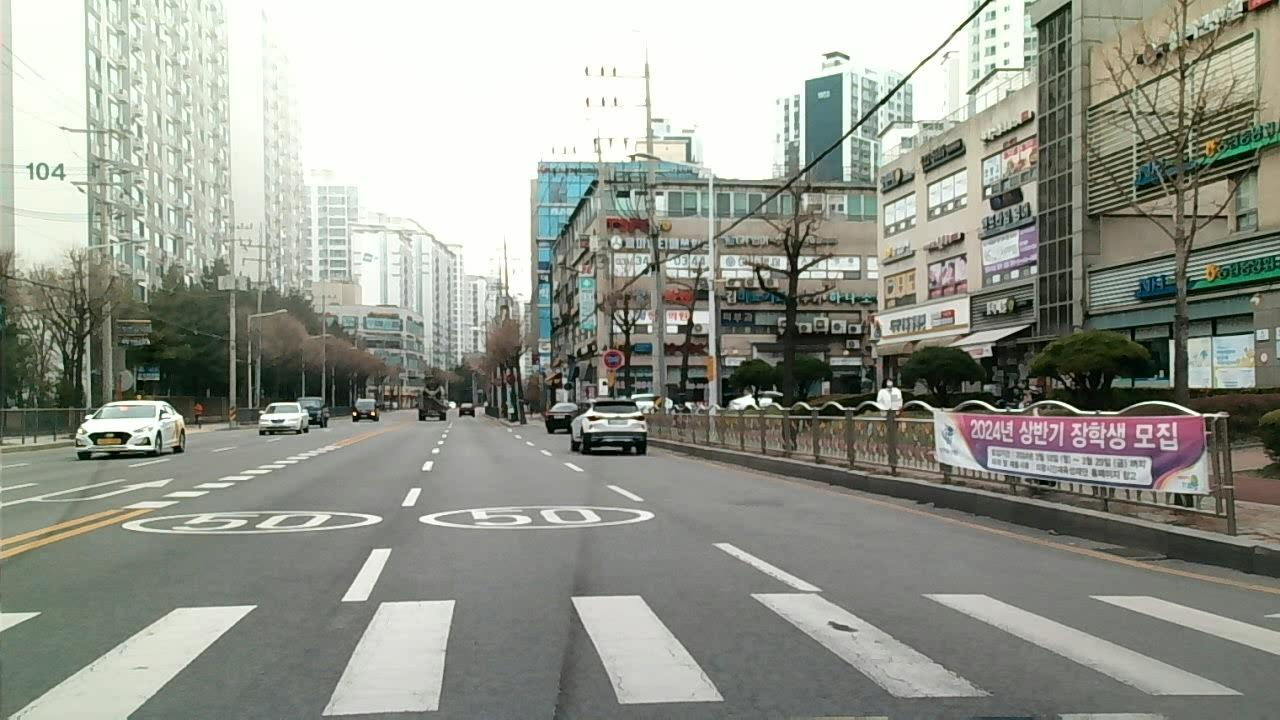banner: (548, 647, 575, 720)
